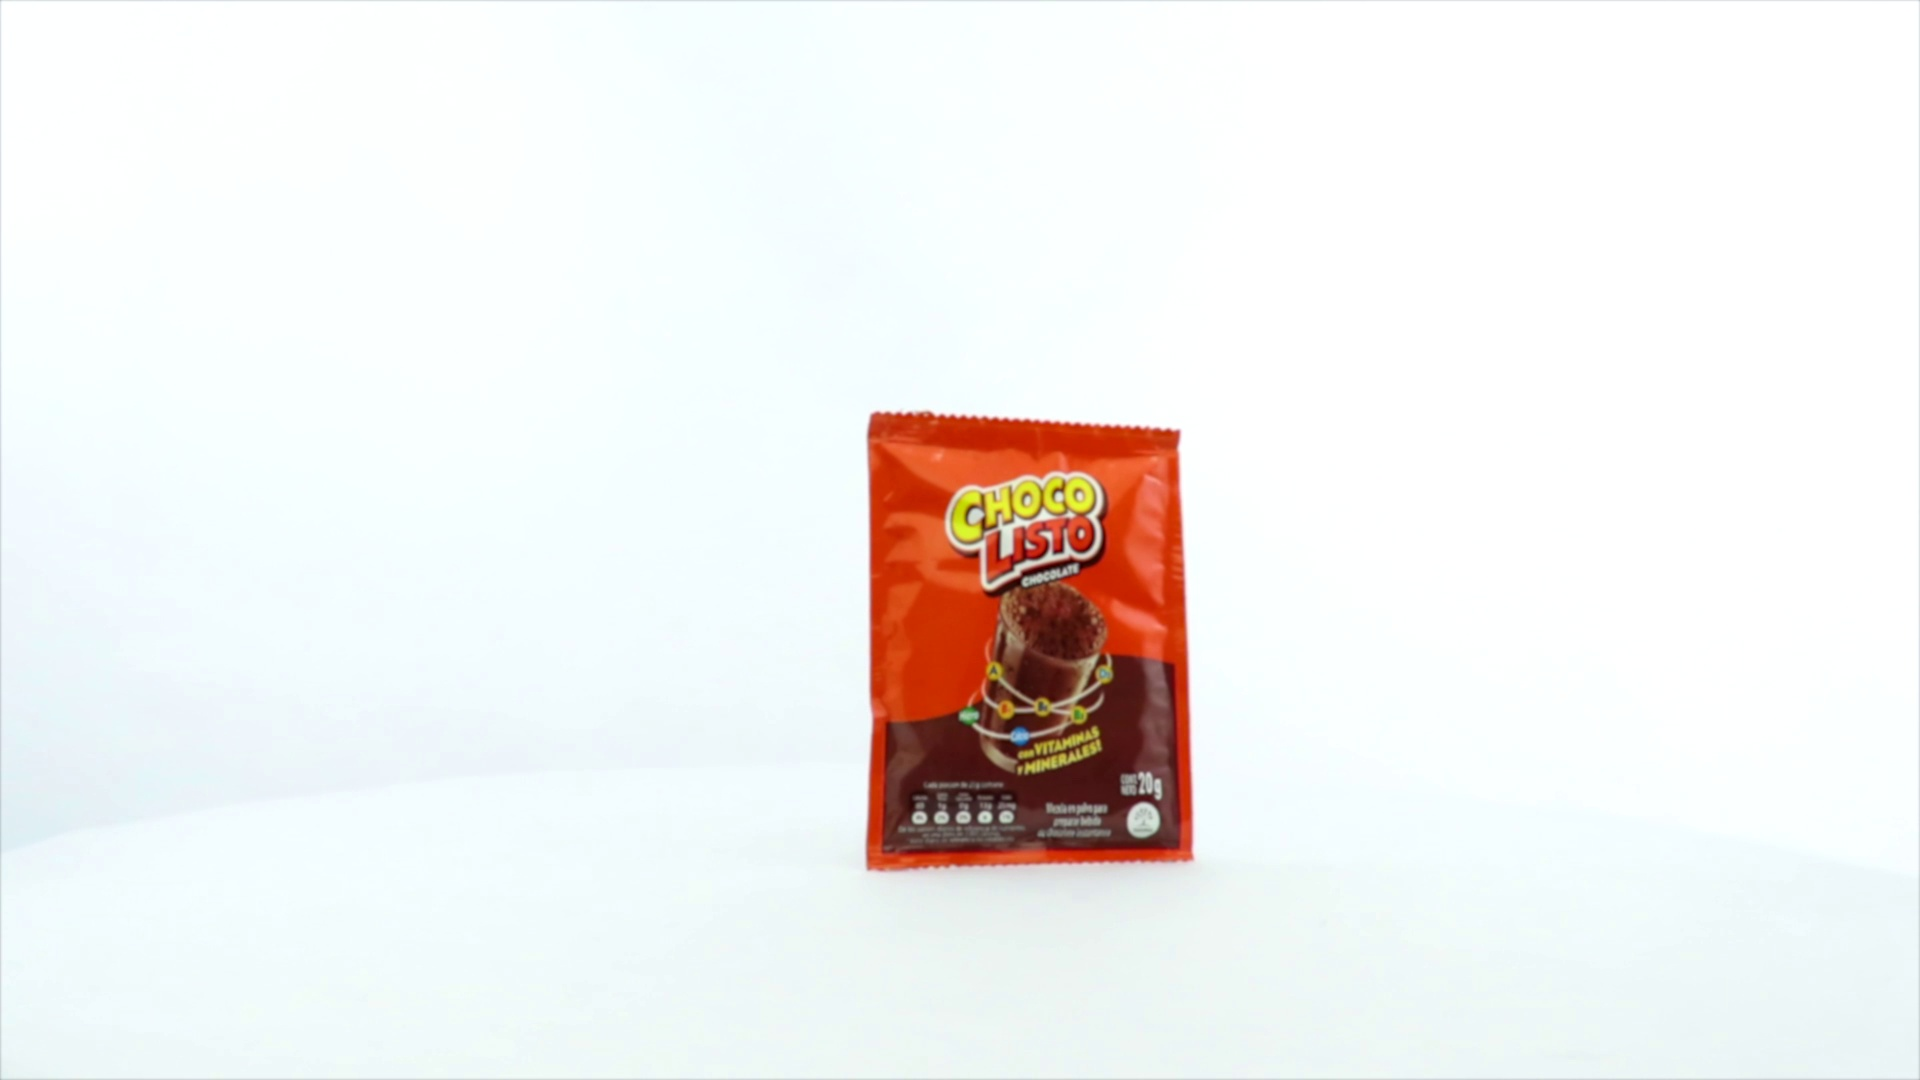COL0170103SOB02000: (861, 406, 1200, 880)
